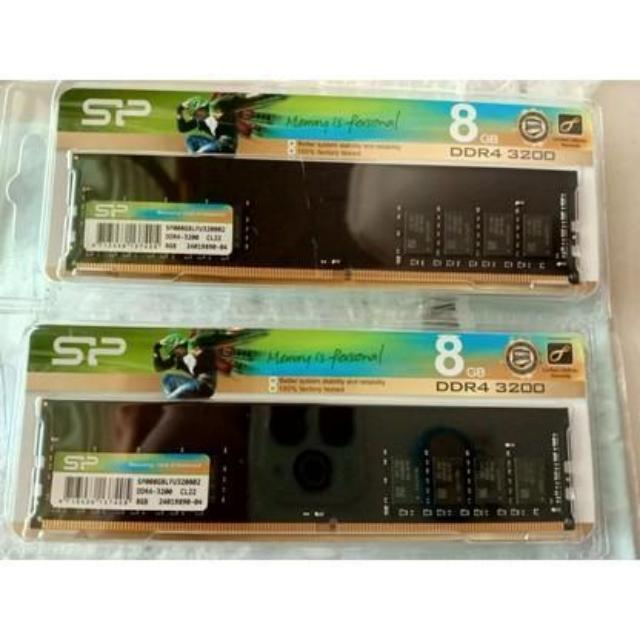RAM: (52, 139, 592, 307), (26, 388, 580, 544)
